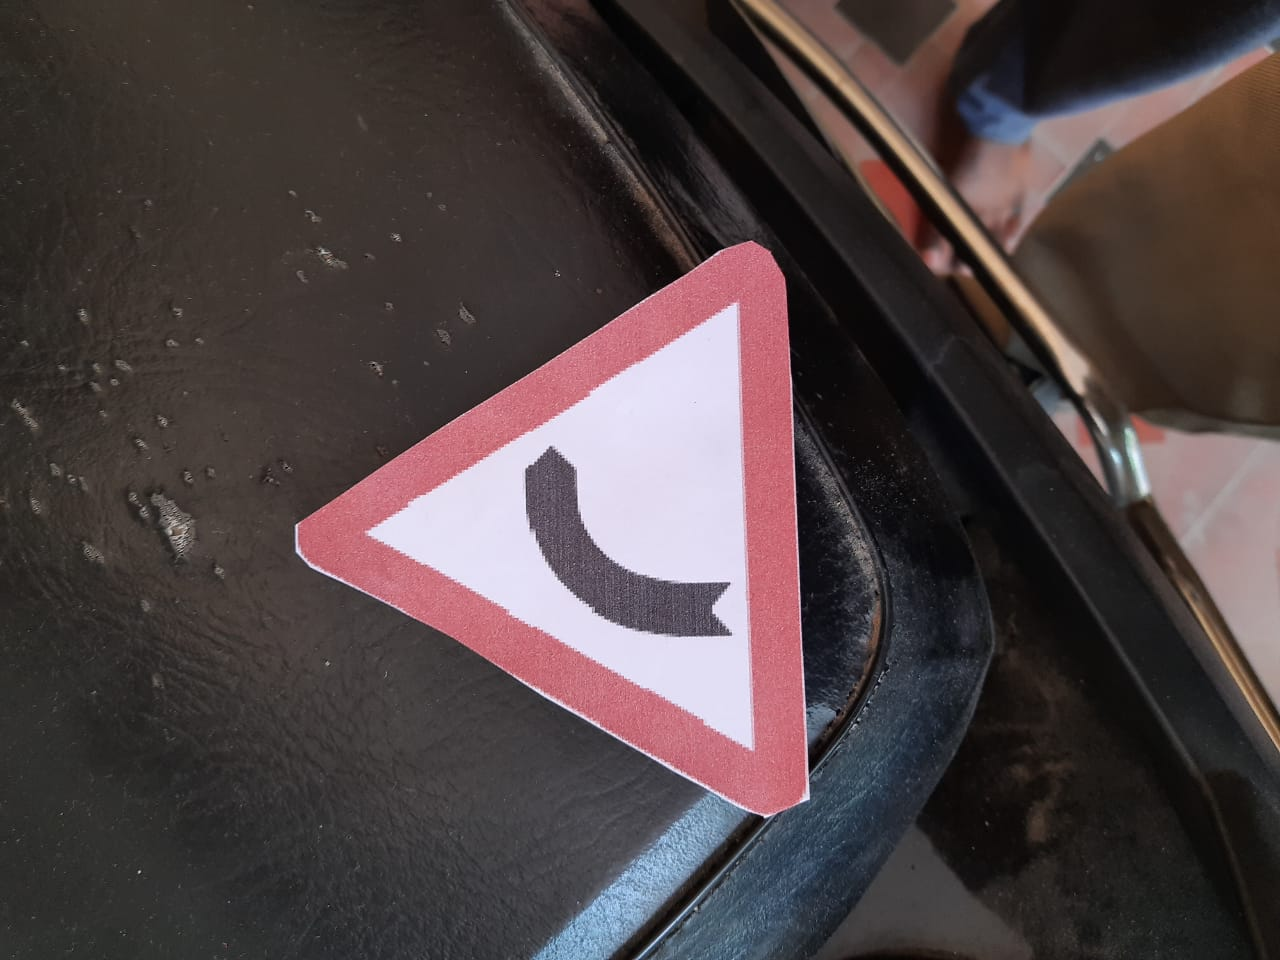RIGHT CURVE: (228, 193, 860, 842)
